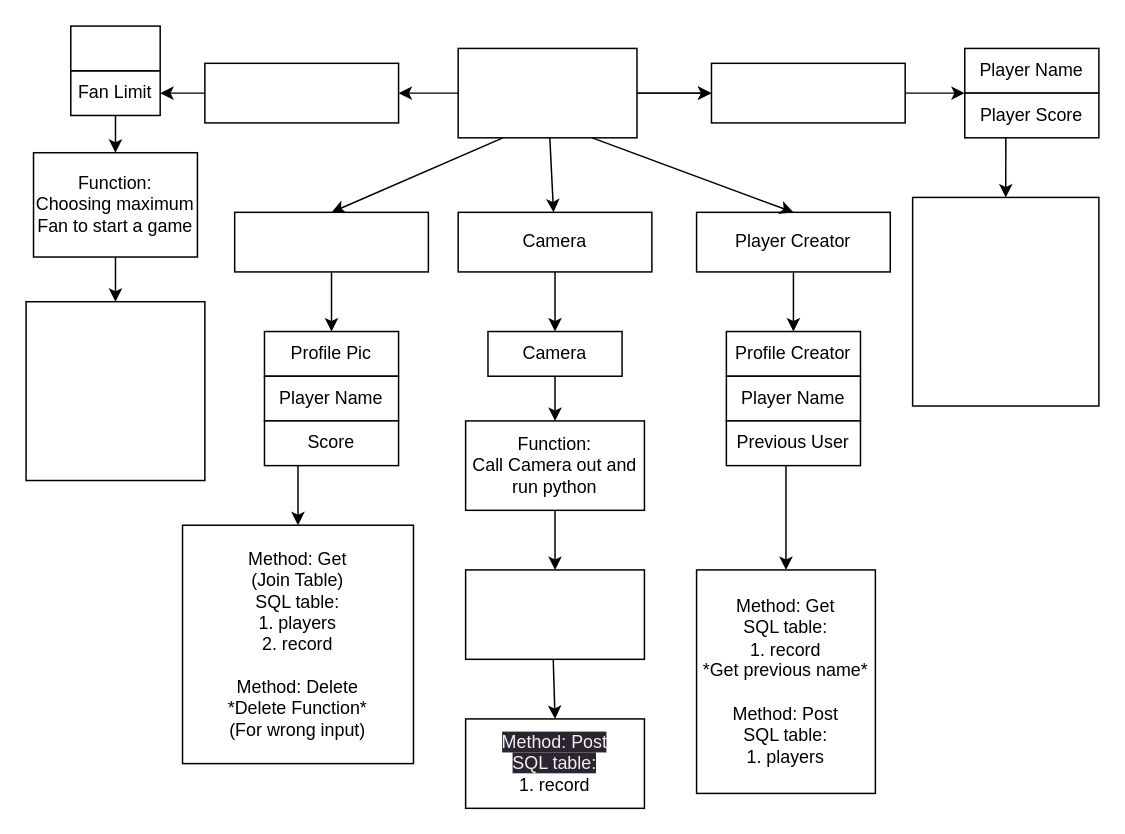
Some shapes in this 1125 by 834 pixel diagram are drawn without their labels. Each missing label, with the centre of its shape:
"(Join Table) Method: Get SQL table: 1. record 2. mj_fan_max Method: Delete" belongs at point 1005,301.
"AI: Run roboflow and return the result (Return JSON)" belongs at point 554,613.
"Let get started" belongs at point 547,92.
"Method: Post SQL table: 1. mj_fan_max" belongs at point 115,390.
"New Game" belongs at point 114,48.
"Player holder" belongs at point 330,241.
"Score DashBoard" belongs at point 807,92.
"Starting Page" belongs at point 301,92.
